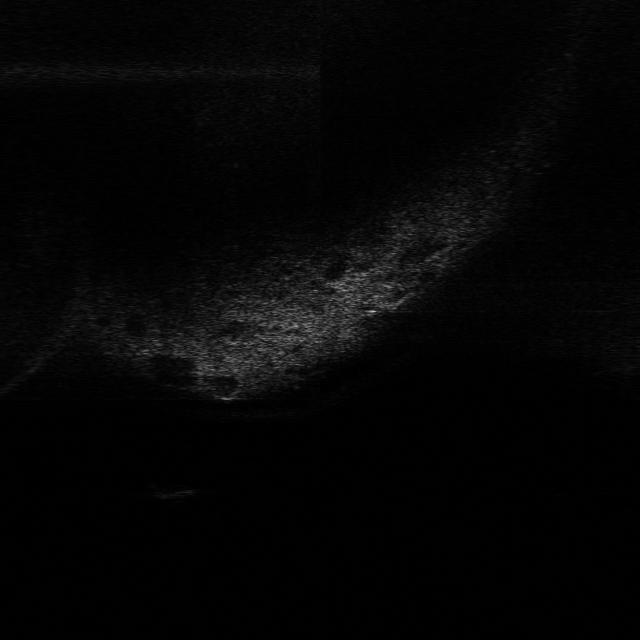cube: (146, 479, 198, 503)
